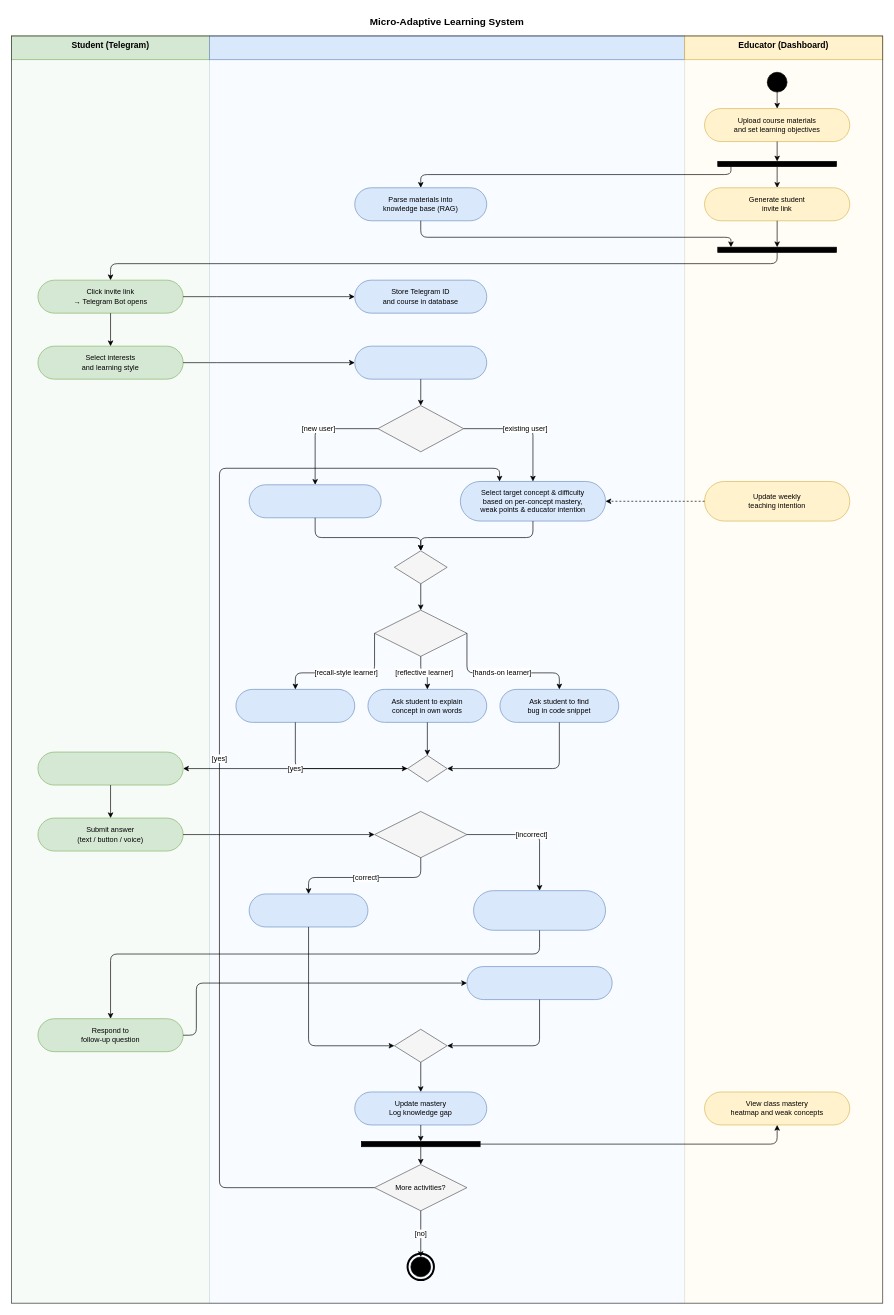
Image size: 894x1315. Some labels were removed from this diagram. Here are the shapes that lost their labels. From the top down, the centre of each, then its label:
the point at 447,47: System (Backend)
the point at 420,362: Create student profile (cold start state)
the point at 314,501: Generate introductory activity from course material
the point at 295,705: Send MCQ quiz with inline buttons
the point at 110,768: Receive activity on Telegram
the point at 308,910: Update mastery Send encouragement
the point at 539,910: Initiate Socratic dialogue to find knowledge gap
the point at 539,983: Provide personalised explanation using student interests
